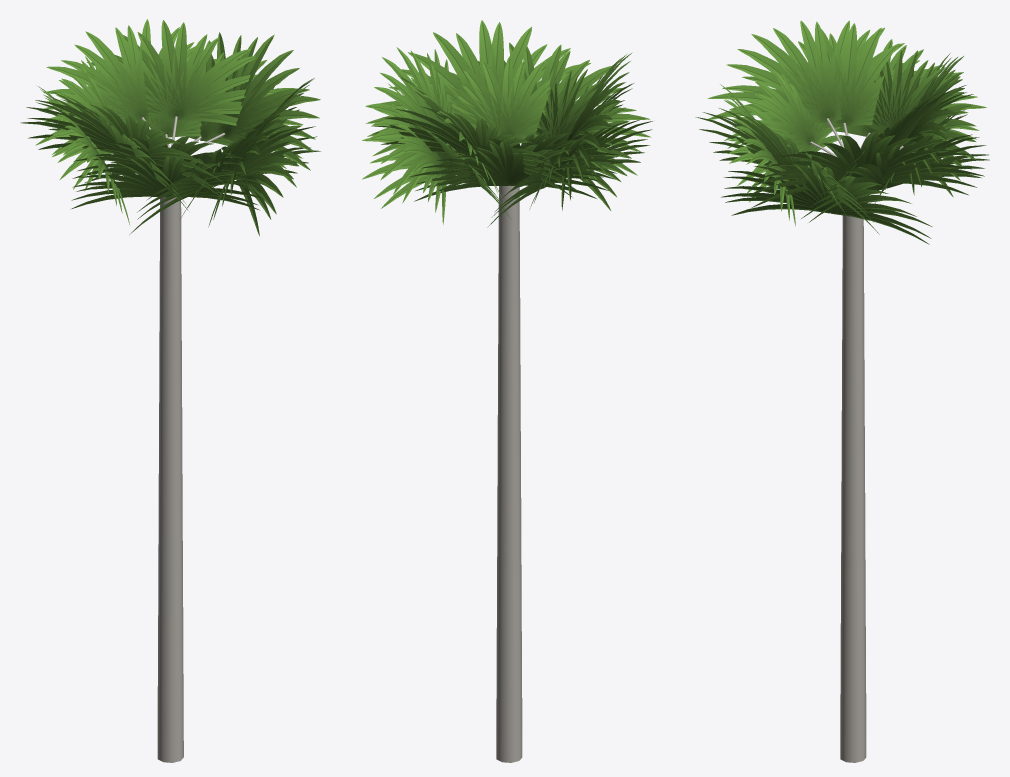
The model's file is mauritia-flexuosa.glb.
3 renders of one model, left to right at view 1: azimuth 30°, elevation 25°; view 2: azimuth 150°, elevation 25°; view 3: azimuth 270°, elevation 25°, orthographic.
Visible parts, largest first — view 1: fronde, estipe; view 2: fronde, estipe; view 3: fronde, estipe.
Part boxes in pixels (<box>): fronde: <box>20,19,320,236</box>; estipe: <box>141,116,224,762</box>; fronde: <box>362,20,652,227</box>; estipe: <box>496,136,522,762</box>; fronde: <box>695,20,989,244</box>; estipe: <box>810,118,903,762</box>.
Size of the model in its own units: 7.94 by 20 by 8.
Materials: 2 (1 with a texture image).
